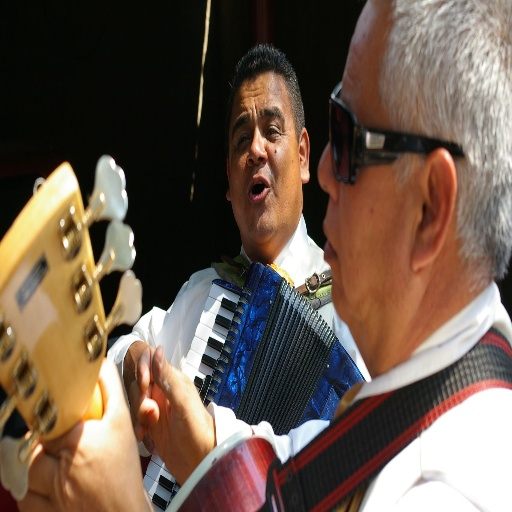hand: (16, 355, 151, 511), (124, 347, 213, 482)
